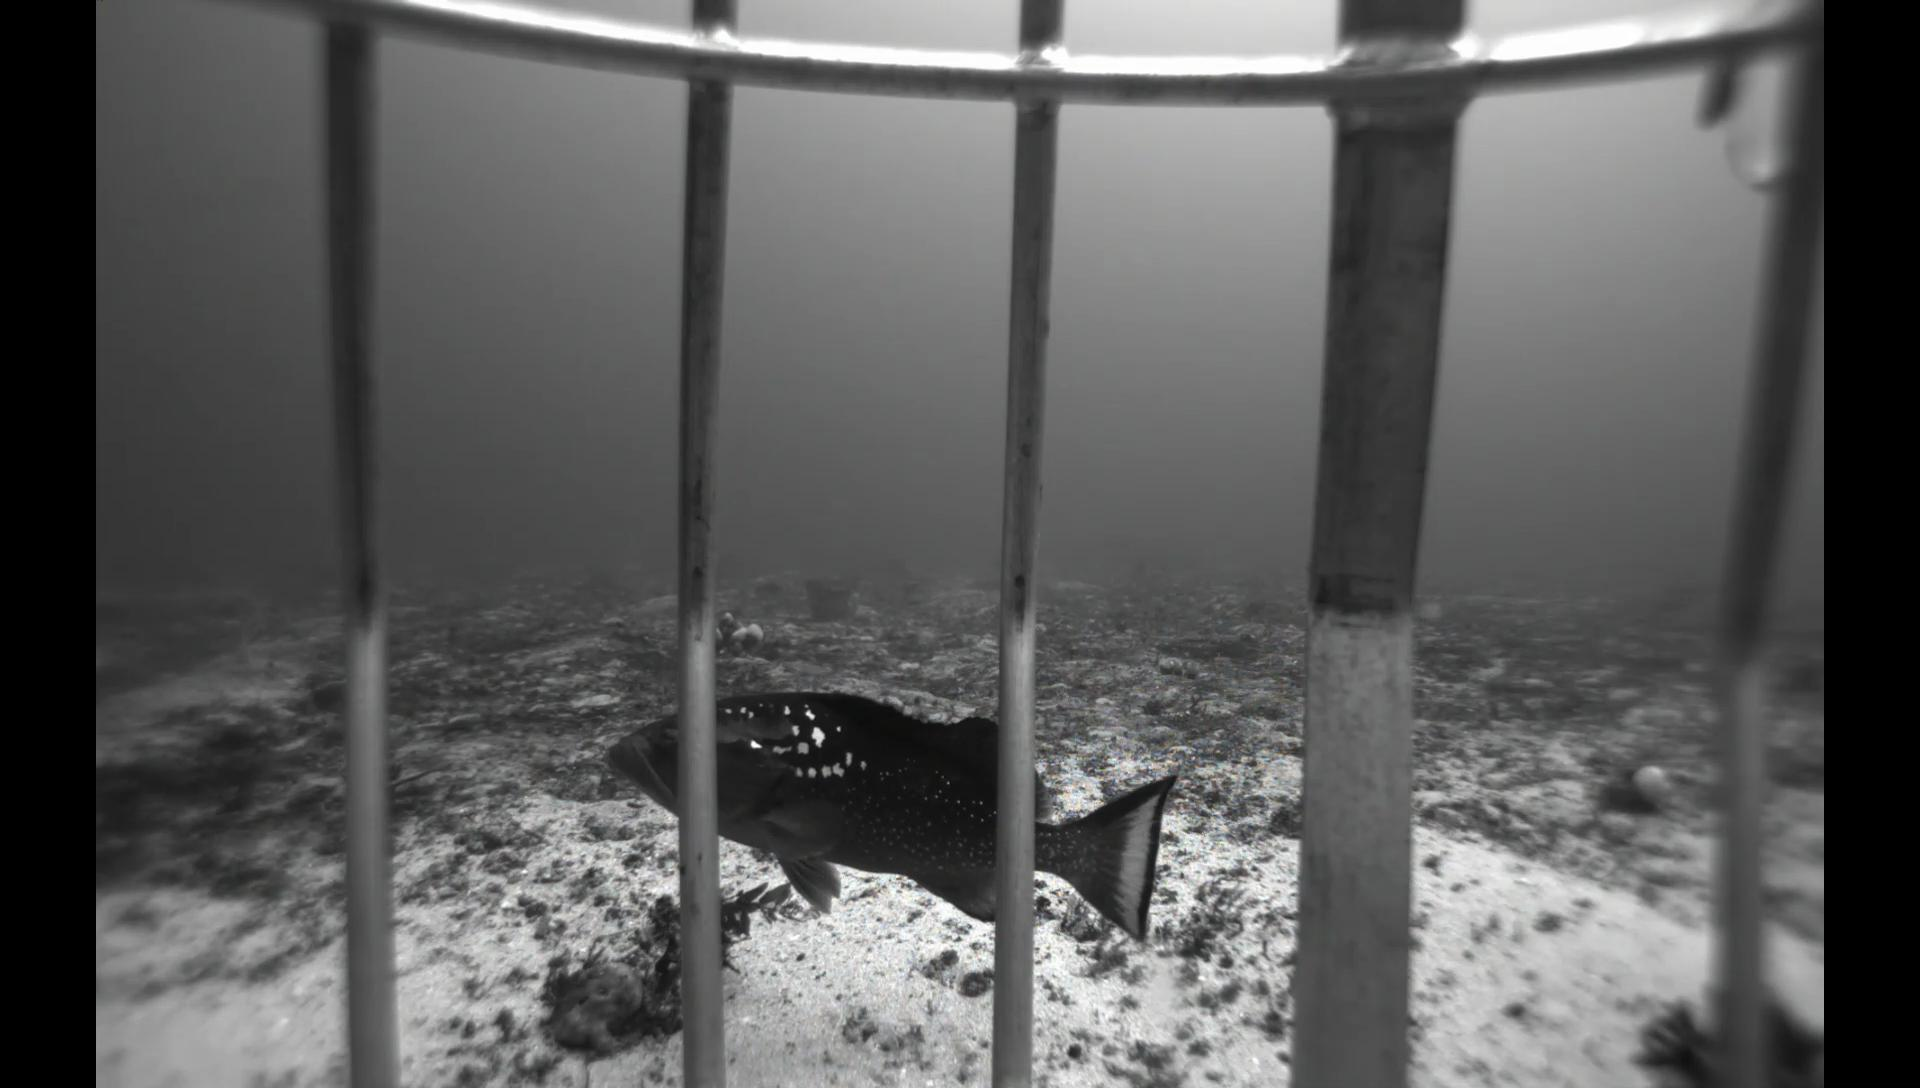CHAETODONOCELLATUS-170260307: (1411, 595, 1449, 626)
EPINEPHELUSMORIO-170021211: (592, 684, 1182, 952)
PRISTIGENYSALTA-170050401: (297, 674, 347, 717)
